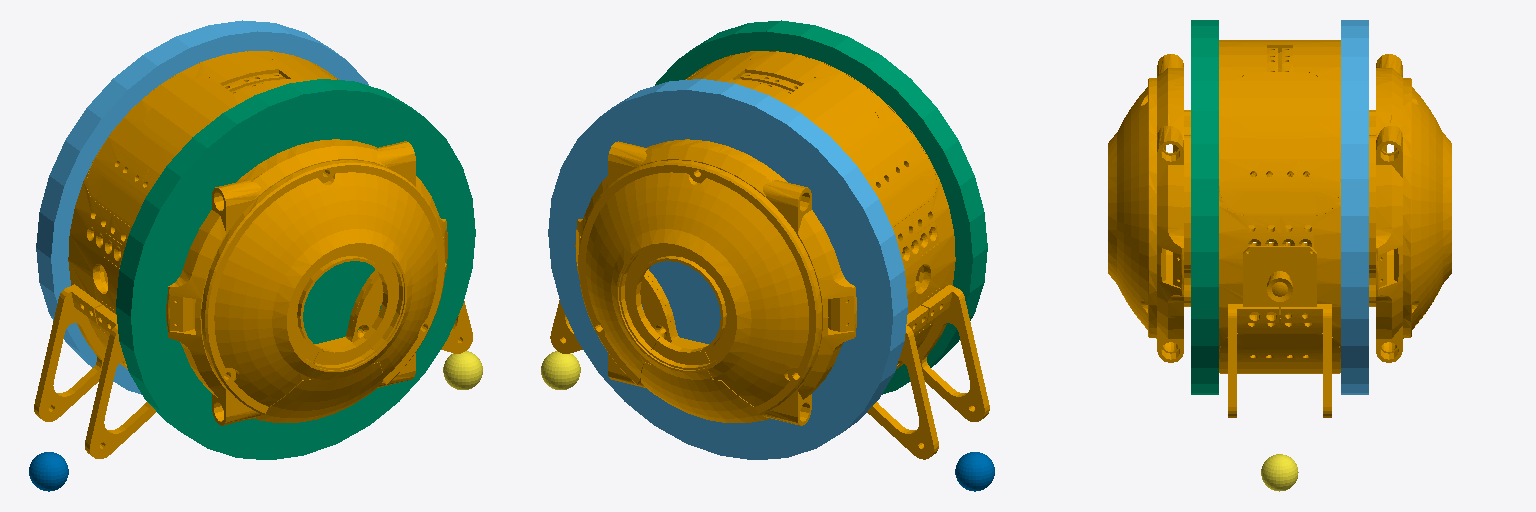
robot.urdf — sprintbot_basic_collisions:
<?xml version="1.0" ?>
<robot name="sprintbot_basic_collisions">
    
  <link name="link_0">
    <inertial>
      <mass value="1.5"/>
      <inertia ixx="0.166667" ixy="0" ixz="0" iyy="0.166667" iyz="0" izz="0.166667"/>
      <origin rpy="0 0 0" xyz="0 0 0"/>
    </inertial>
    <origin rpy="0 0 0 0" xyz="0 0 0"/>
    <kinematic>0</kinematic>
    <enable_wind>0</enable_wind>
    <visual>
      <origin rpy="0 0 -1.5708" xyz="0 0 0"/>
      <geometry>
        <mesh filename="./install/pipebot_description/share/pipebot_description/meshes/sprintbot_body_corrected_axis.dae"/>
      </geometry>
    </visual>
    <collision>
      <origin rpy="0 0 -1.5708" xyz="0 0 0"/>
      <geometry>
        <sphere radius="0.0915"/>
      </geometry>
    </collision>
  </link>
  
  <link name="link_1">
    <inertial>
      <mass value="0.35"/>
      <inertia ixx="0.166667" ixy="0" ixz="0" iyy="0.166667" iyz="0" izz="0.166667"/>
      <origin rpy="0 0 0" xyz="0 0 0"/>
    </inertial>
    <origin rpy="0 0 0" xyz="0 0.04 0"/>
    <kinematic>0</kinematic>
    <enable_wind>0</enable_wind>
    <visual>
      <origin rpy="1.5708 0 0" xyz="0 0 0"/>
      <geometry>
        <cylinder length="0.015" radius="0.1"/>
      </geometry>
      <transparency>0</transparency>
      <cast_shadows>1</cast_shadows>
    </visual>
    <collision>
      <origin rpy="1.5708 0 0" xyz="0 0 0"/>
      <geometry>
        <cylinder length="0.015" radius="0.1"/>
      </geometry>
    </collision>    
  </link>
  
  <link name="link_2">
    <inertial>
      <mass value="0.35"/>
      <inertia ixx="0.166667" ixy="0" ixz="0" iyy="0.166667" iyz="0" izz="0.166667"/>
      <origin rpy="0 0 0" xyz="0 0 0"/>
    </inertial>
    <origin rpy="0 0 0" xyz="0 -0.04 0"/>
    <kinematic>0</kinematic>
    <enable_wind>0</enable_wind>
    <visual>
      <origin rpy="1.5708 0 0" xyz="0 0 0"/>
      <geometry>
        <cylinder length="0.015" radius="0.1"/>
      </geometry>
      <transparency>0</transparency>
      <cast_shadows>1</cast_shadows>
    </visual>
    <collision>
      <origin rpy="1.5708 0 0" xyz="0 0 0"/>
      <geometry>
        <cylinder length="0.015" radius="0.1"/>
      </geometry>
    </collision> 
  </link>
  
  <link name="front_caster">
    <inertial>
      <mass value="0.005"/>
      <inertia ixx="1.15e-06" ixy="0" ixz="0" iyy="1.15e-06" iyz="0" izz="1.15e-06"/>
      <origin rpy="0 0 0" xyz="0 0 0"/>
    </inertial>
    <origin rpy="0 0 0" xyz="0.12 0 -0.1"/>
    <kinematic>0</kinematic>
    <enable_wind>0</enable_wind>
    <visual>
      <origin rpy="0 0 0" xyz="0 0 0"/>
      <geometry>
        <sphere radius="0.01"/>
      </geometry>
      <transparency>0</transparency>
      <cast_shadows>1</cast_shadows>
    </visual>
    <collision>
      <origin rpy="0 0 0" xyz="0 0 0"/>
      <geometry>
        <sphere radius="0.01"/>
      </geometry>
    </collision> 
  </link>
  
  <link name="back_caster">
    <inertial>
      <mass value="0.005"/>
      <inertia ixx="1.15e-06" ixy="0" ixz="0" iyy="1.15e-06" iyz="0" izz="1.15e-06"/>
      <origin rpy="0 0 0" xyz="0 0 0"/>
    </inertial>
    <origin rpy="0 0 0" xyz="-0.12 0 -0.1"/>
    <kinematic>0</kinematic>
    <enable_wind>0</enable_wind>
    <visual>
      <origin rpy="0 0 0" xyz="0 0 0"/>
      <geometry>
        <sphere radius="0.01"/>
      </geometry>
      <transparency>0</transparency>
      <cast_shadows>1</cast_shadows>
    </visual>
    <collision>
      <origin rpy="0 0 0" xyz="0 0 0"/>
      <geometry>
        <sphere radius="0.01"/>
      </geometry>
    </collision> 
  </link>
  
  <joint name="left_motor" type="revolute">
    <parent link="link_0"/>
    <child link="link_1"/>
    <origin rpy="0 0 0" xyz="0 0.04 0"/>
    <axis xyz="0 1 0"/>
    <limit effort="2.62" lower="-1.79769e+308" upper="1.79769e+308" velocity="0.5"/>
    <dynamics damping="0" friction="0" spring_reference="0" spring_stiffness="0"/>
  </joint>
  
  <joint name="right_motor" type="revolute">
    <parent link="link_0"/>
    <child link="link_2"/>
    <origin rpy="0 0 0" xyz="0 -0.04 0"/>
    <axis xyz="0 1 0"/>
    <limit effort="2.62" lower="-1.79769e+308" upper="1.79769e+308" velocity="0.5"/>
    <dynamics damping="0" friction="0" spring_reference="0" spring_stiffness="0"/>
  </joint>
  
  <joint name="back_spring" type="prismatic">
    <parent link="link_0"/>
    <child link="back_caster"/>
    <origin rpy="0 0 0" xyz="-0.12 0 -0.1"/>
    <axis xyz="0 0 1"/>
    <limit effort="0" lower="-0.01" upper="0.02" velocity="0"/>
    <dynamics damping="0.5" friction="1.0"/>
    <safety_controller k_position="30" k_velocity="30" soft_lower_limit="0.0" soft_upper_limit="0.01"/>
  </joint>
  
  <joint name="front_spring" type="prismatic">
    <parent link="link_0"/>
    <child link="front_caster"/>
    <origin rpy="0 0 0" xyz="0.12 0 -0.1"/>
    <axis xyz="0 0 1"/>
    <limit effort="0" lower="-0.01" upper="0.02" velocity="0"/>
    <dynamics damping="0.5" friction="2.0"/>
    <safety_controller k_position="30" k_velocity="30" soft_lower_limit="0.0" soft_upper_limit="0.01"/>
  </joint>
  
  <link name="sensor_link">
    <origin rpy="0 0 0" xyz="0 0 0"/>
    <inertial>
      <mass value="0.005"/>
      <inertia ixx="0.166667" ixy="0" ixz="0" iyy="0.166667" iyz="0" izz="0.166667"/>
      <origin rpy="0 0 0" xyz="0 0 0"/>
    </inertial>
  </link>
  
  <gazebo reference="sensor_link">
      <sensor name="sensor_ray" type="ray">
        <pose>0.04 0 0 0 0 0</pose>
        <ray>
          <scan>
            <horizontal>
                <samples>3</samples>
                <resolution>1.0</resolution>
                <min_angle>-0.78</min_angle>
                <max_angle>0.78</max_angle>
            </horizontal>
          </scan>
          <range>
            <min>0.04</min>
            <max>1.0</max>
          </range>
        </ray>
        <always_on>true</always_on>
        <visualize>true</visualize>
        <update_rate>100.0</update_rate>
        <plugin name="laser" filename="libgazebo_ros_ray_sensor.so">
          <ros>
            <remapping>~/out:=laser_scan</remapping>
          </ros>
          <output_type>sensor_msgs/LaserScan</output_type>
        </plugin>
      </sensor>
  </gazebo>
  
  <joint name="sensor_joint" type="prismatic">
    <axis xyz="0 1 0"/>
    <origin rpy="0 0 0" xyz="0.1 0 0"/>
    <parent link="link_0"/>
    <child link="sensor_link"/>
    <origin xyz="0 1 0"/>
    <limit effort="2.62" lower="0" upper="0" velocity="1"/>
  </joint>
  
  <gazebo>
    <!--plugin name='diff_drive' filename='libgazebo_ros_diff_drive.so'>
      <ros>
        <namespace>/bot1</namespace>
        <remapping>odom:=odom_demo</remapping>
      </ros>
      <left_joint>left_motor</left_joint>
      <right_joint>right_motor</right_joint>
      <wheel_separation>0.08</wheel_separation>
      <wheel_diameter>0.2</wheel_diameter>
      <max_wheel_torque>2.61</max_wheel_torque>
      <max_wheel_acceleration>0.5</max_wheel_acceleration>
      <publish_odom>0</publish_odom>
      <publish_odom_tf>1</publish_odom_tf>
      <publish_wheel_tf>1</publish_wheel_tf>
      <odometry_frame>odom_demo</odometry_frame>
      <robot_base_frame>link_0</robot_base_frame>
    </plugin-->
    <plugin name="left_motor_plugin" filename="libgazebo_ros_simple_motor.so">
        <ros>
            <remapping>cmd_motor:=cmd_left_motor</remapping>
        </ros>
        <!-- Motor shaft name -->
        <motor_shaft_name>left_motor</motor_shaft_name>
        <!-- Maximum change in rpm per update.
        Setting this to a large value, say 500.0, will cause instantaneous changes in speed.
        Smaller values, say 5.0 or less, cause more gradual changes in speed "simulating" mass.
        -->
        <max_change_rpm>5.0</max_change_rpm>
        <!-- Maximum rpm. -->
        <max_rpm>500.0</max_rpm>
        <!-- Maximum position change per update.
        Similar to rpm, the maximum number of radians that will be moved per update.
        For a full circle at 10Hz, 0.314r per update will take 2 seconds.
        -->
        <max_change_radians>0.314</max_change_radians>
        <!-- Update rate in Hz -->
        <update_rate>10.0</update_rate>
      </plugin>
      
      <plugin name="right_motor_plugin" filename="libgazebo_ros_simple_motor.so">
        <ros>
            <remapping>cmd_motor:=cmd_right_motor</remapping>
        </ros>
        <!-- Motor shaft name -->
        <motor_shaft_name>right_motor</motor_shaft_name>
        <!-- Maximum change in rpm per update.
        Setting this to a large value, say 500.0, will cause instantaneous changes in speed.
        Smaller values, say 5.0 or less, cause more gradual changes in speed "simulating" mass.
        -->
        <max_change_rpm>5.0</max_change_rpm>
        <!-- Maximum rpm. -->
        <max_rpm>500.0</max_rpm>
        <!-- Maximum position change per update.
        Similar to rpm, the maximum number of radians that will be moved per update.
        For a full circle at 10Hz, 0.314r per update will take 2 seconds.
        -->
        <max_change_radians>0.314</max_change_radians>
        <!-- Update rate in Hz -->
        <update_rate>10.0</update_rate>
    </plugin>
    
    <plugin filename="libgazebo_ros_p3d.so " name="p3d">
        <ros>
            <namespace>/bot1</namespace>
        </ros>
        <body_name>link_0</body_name>
    </plugin>  
  </gazebo>
  
</robot>

--- What the picture shows (computed from the rendered views, not written in the file) ---
Views: 3 orthographic renders of the robot side by side, from view 1: azimuth 30°, elevation 25°; view 2: azimuth 150°, elevation 25°; view 3: azimuth 270°, elevation 25°.
Model sprintbot_basic_collisions with 6 links and 5 joints (2 revolute, 3 prismatic), rooted at link_0, posed every joint at zero.
Links seen in each view (by area): view 1: link_0, link_2, link_1, back_caster, front_caster; view 2: link_0, link_1, link_2, back_caster, front_caster; view 3: link_0, link_1, link_2, front_caster.
Link boxes in pixels (bbox=[...]): link_0: bbox=[34, 51, 472, 458]; link_2: bbox=[116, 79, 475, 459]; link_1: bbox=[36, 20, 368, 394]; back_caster: bbox=[29, 452, 68, 491]; front_caster: bbox=[443, 351, 482, 389]; link_0: bbox=[550, 51, 989, 459]; link_1: bbox=[548, 79, 907, 459]; link_2: bbox=[655, 20, 987, 394]; back_caster: bbox=[955, 452, 994, 491]; front_caster: bbox=[541, 351, 580, 389]; link_0: bbox=[1108, 40, 1451, 417]; link_1: bbox=[1341, 20, 1368, 394]; link_2: bbox=[1191, 20, 1218, 394]; front_caster: bbox=[1261, 454, 1298, 491].
Size in the robot's own frame: 0.26 by 0.1831 by 0.21 metres.
1 mesh visuals loaded from 1 distinct referenced files (1 Collada DAE).
